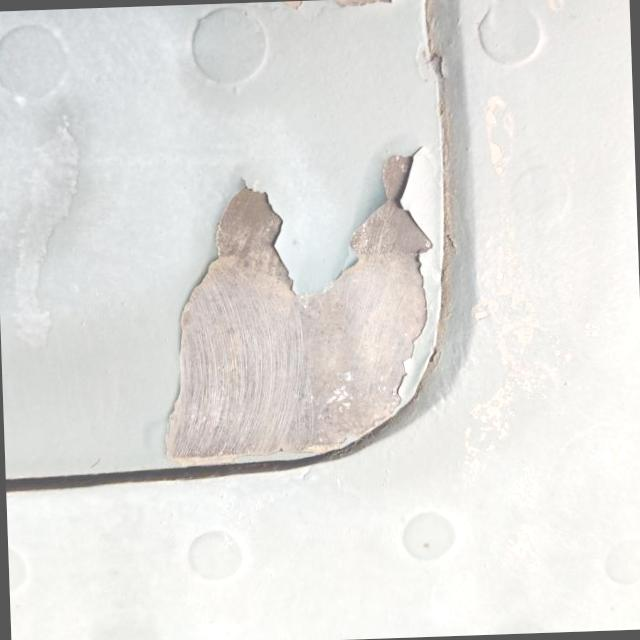paint-off: (121, 112, 503, 500)
